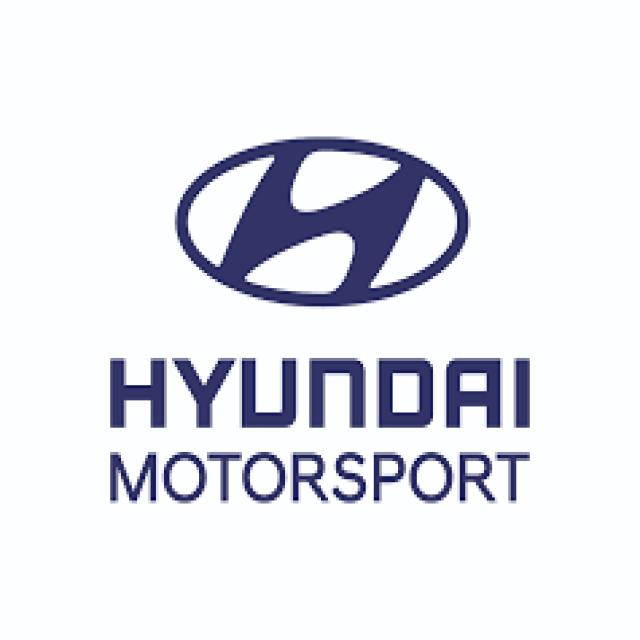hyundai: (175, 138, 475, 314)
